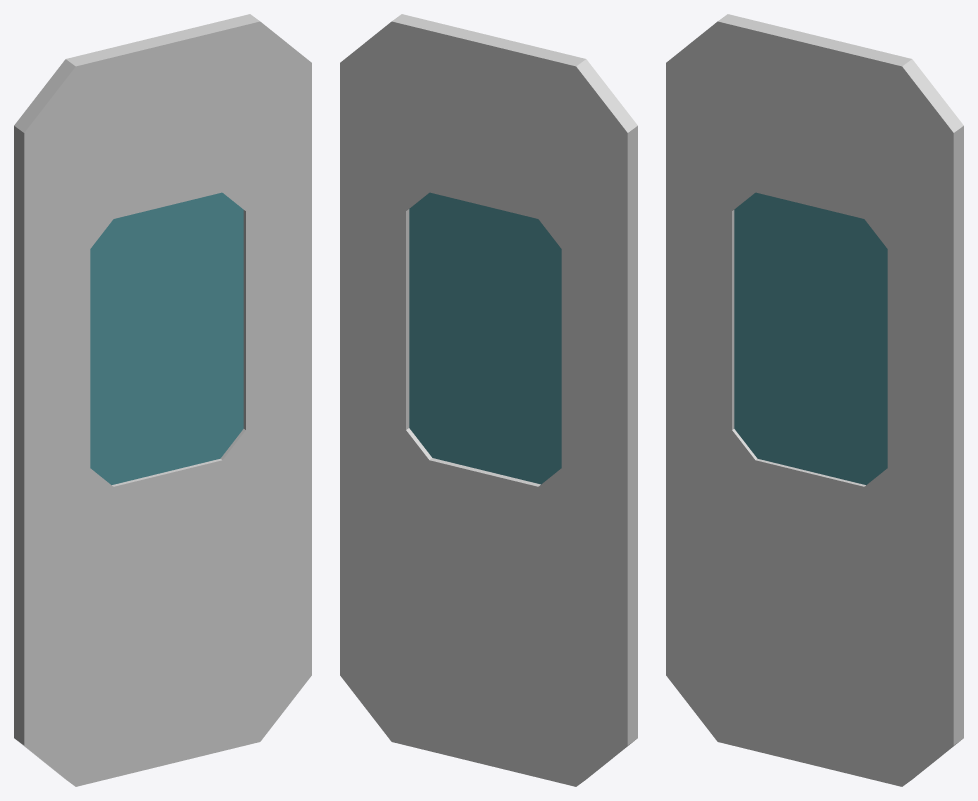
File: Train Door Dynamic.fbx
3 views of the same model, side by side, from view 1: azimuth 30°, elevation 25°; view 2: azimuth 150°, elevation 25°; view 3: azimuth 330°, elevation 25° (orthographic).
Visible parts, largest first — view 1: TrainDoor01, WindowMesh (8); view 2: TrainDoor01, WindowMesh (8); view 3: TrainDoor01, WindowMesh (8).
Boxes of the visible parts, box(x1,y1,x2,y2) form: TrainDoor01: box(14, 14, 311, 786); WindowMesh (8): box(90, 192, 243, 484); TrainDoor01: box(340, 14, 637, 786); WindowMesh (8): box(409, 192, 561, 484); TrainDoor01: box(666, 14, 963, 786); WindowMesh (8): box(734, 192, 887, 484).
Size of the model in its own units: 0.7078 by 1.69 by 0.0433.
2 materials, 1 textured.
